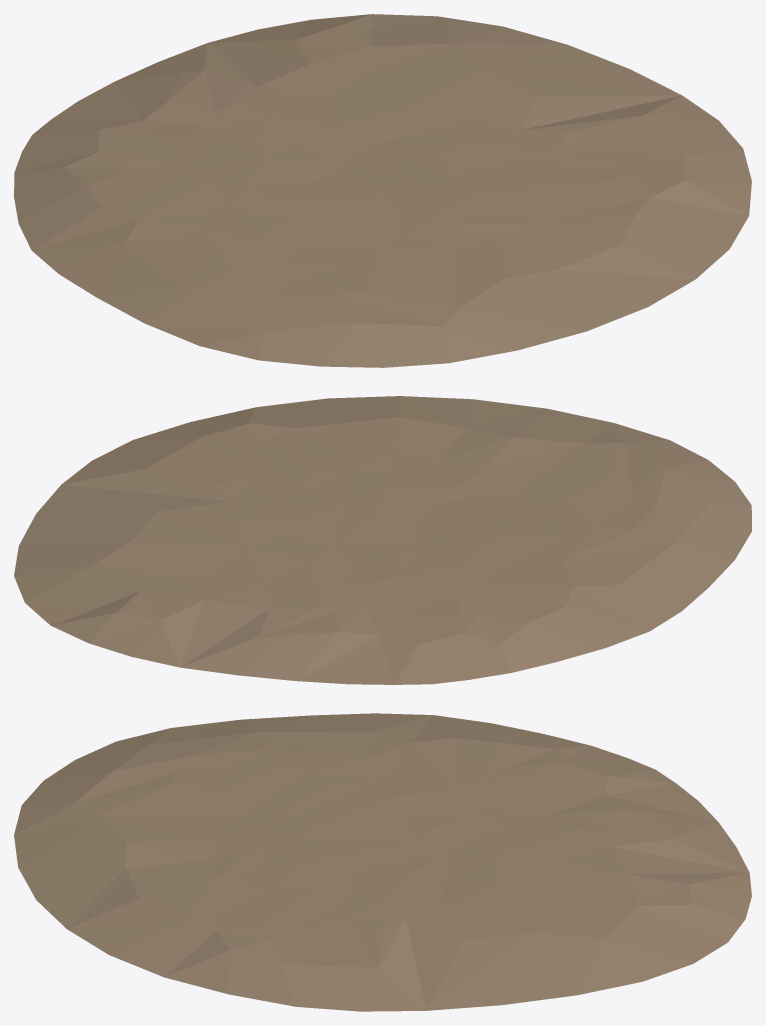
The model's file is SM_Env_Ground_Round_02.fbx.
The picture shows the model from 3 angles, top to bottom: view 1: azimuth 30°, elevation 25°; view 2: azimuth 150°, elevation 25°; view 3: azimuth 270°, elevation 25°; orthographic projection. The views are drawn at different scales.
Parts seen in each view (by area): view 1: SM_Env_Ground_Round_02; view 2: SM_Env_Ground_Round_02; view 3: SM_Env_Ground_Round_02.
Boxes of the visible parts, left/top/right/bottom form: SM_Env_Ground_Round_02: left=14, top=14, right=751, bottom=367; SM_Env_Ground_Round_02: left=14, top=396, right=751, bottom=684; SM_Env_Ground_Round_02: left=14, top=713, right=751, bottom=1011.
Size of the model in its own units: 2040 by 51.74 by 2133.
